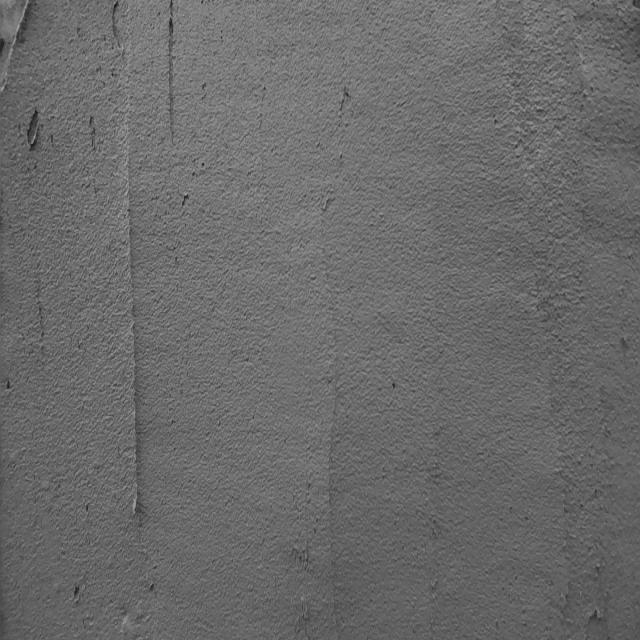trowels marks: (116, 86, 143, 534)
